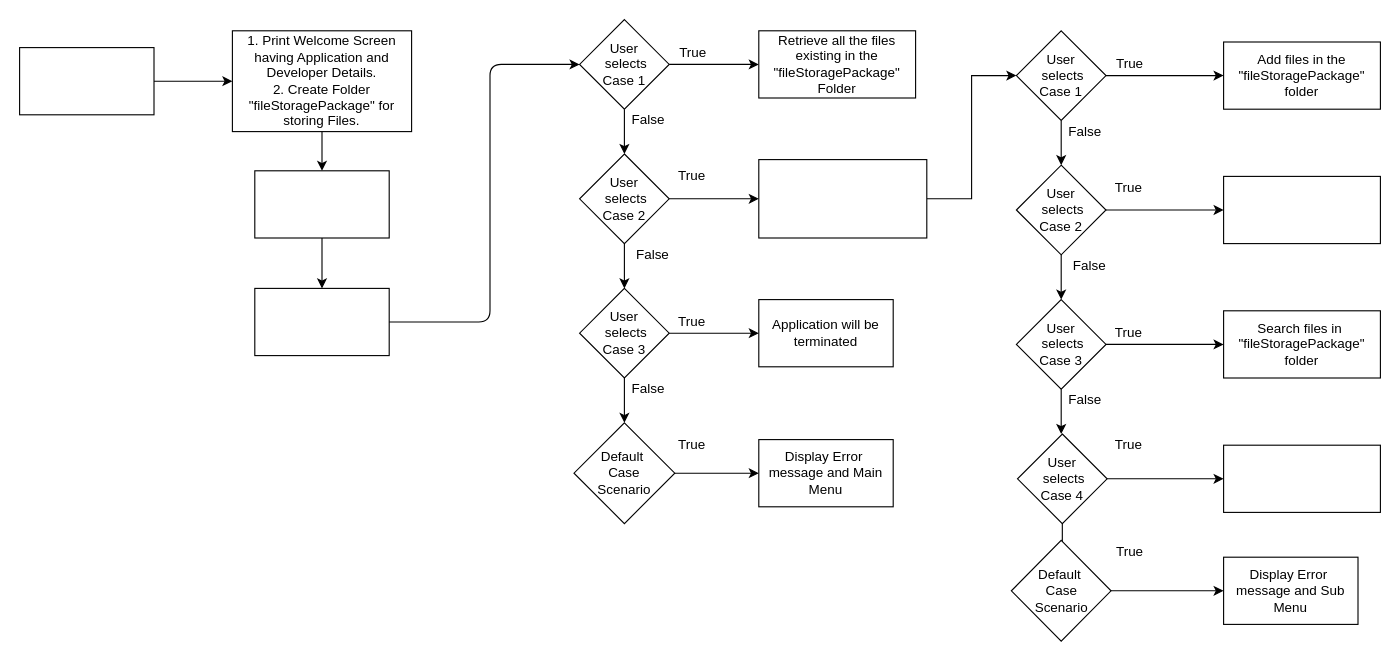
The diagram is 1400 pixels wide and 661 high, and some of its shapes have lost their labels. Each missing label, with the centre of its shape:
Delete files in "fileStoragePackage" folder: pixel 1301 209
Display a Sub Menu and user will be asked to choose one of the option from it: pixel 842 198
Display Main Menu of the application: pixel 321 204
Go back to Main Menu: pixel 1301 478
Take input from User: pixel 321 321
User: pixel 86 80
